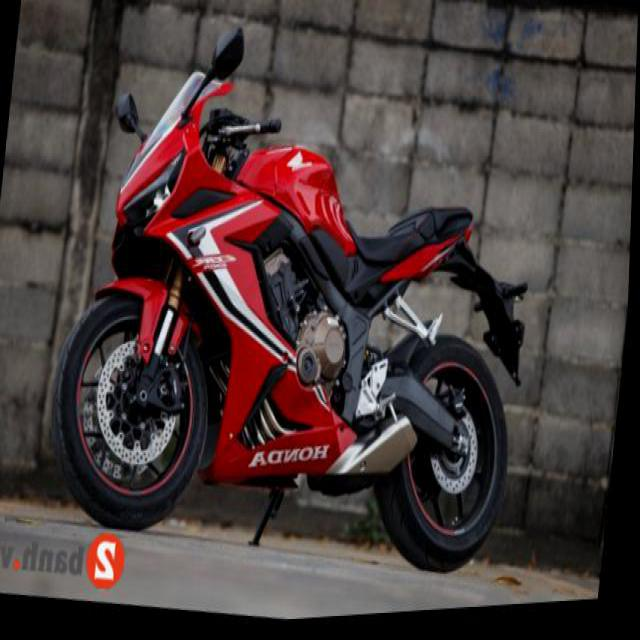CBR650R: (38, 0, 560, 598)
